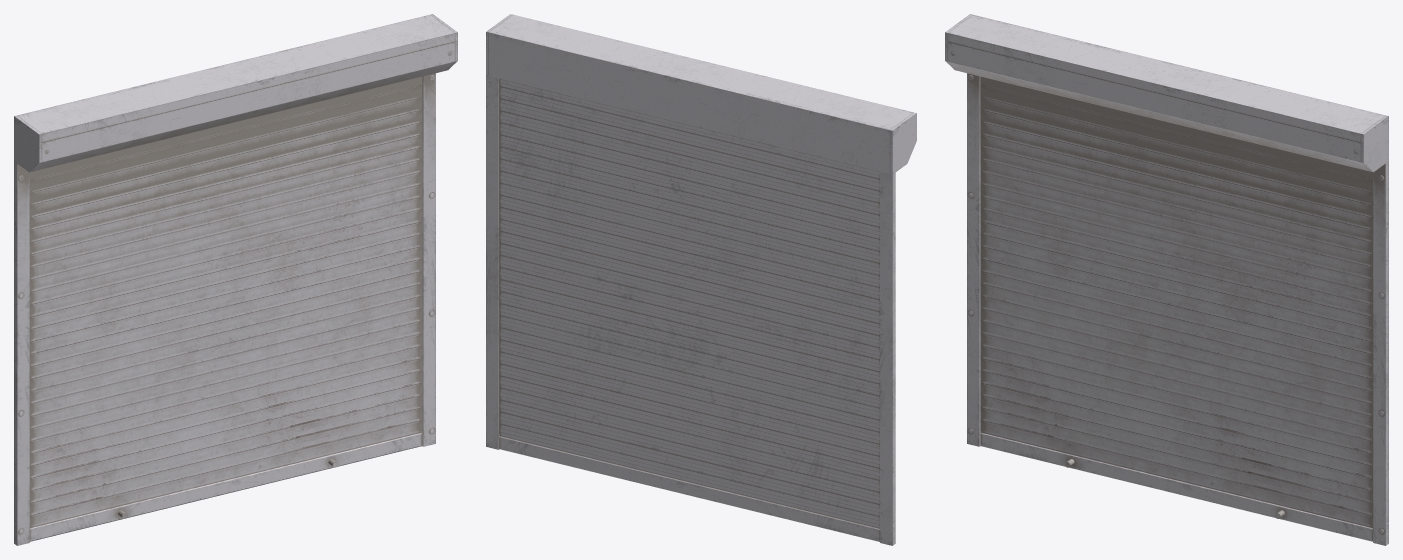
The model's file is shutter_window_small.glb.
3 views of the same model, side by side, from view 1: azimuth 30°, elevation 25°; view 2: azimuth 150°, elevation 25°; view 3: azimuth 330°, elevation 25° (orthographic). The views are drawn at different scales.
Parts seen in each view (by area): view 1: shutter_window_small; view 2: shutter_window_small; view 3: shutter_window_small.
Boxes of the visible parts, <box> form: shutter_window_small: <box>14,14,457,545</box>; shutter_window_small: <box>486,14,916,545</box>; shutter_window_small: <box>945,14,1388,545</box>.
Bounding box in the file's own units: 1.6 × 1.56 × 0.1681.
Materials: 1 (1 with a texture image).
